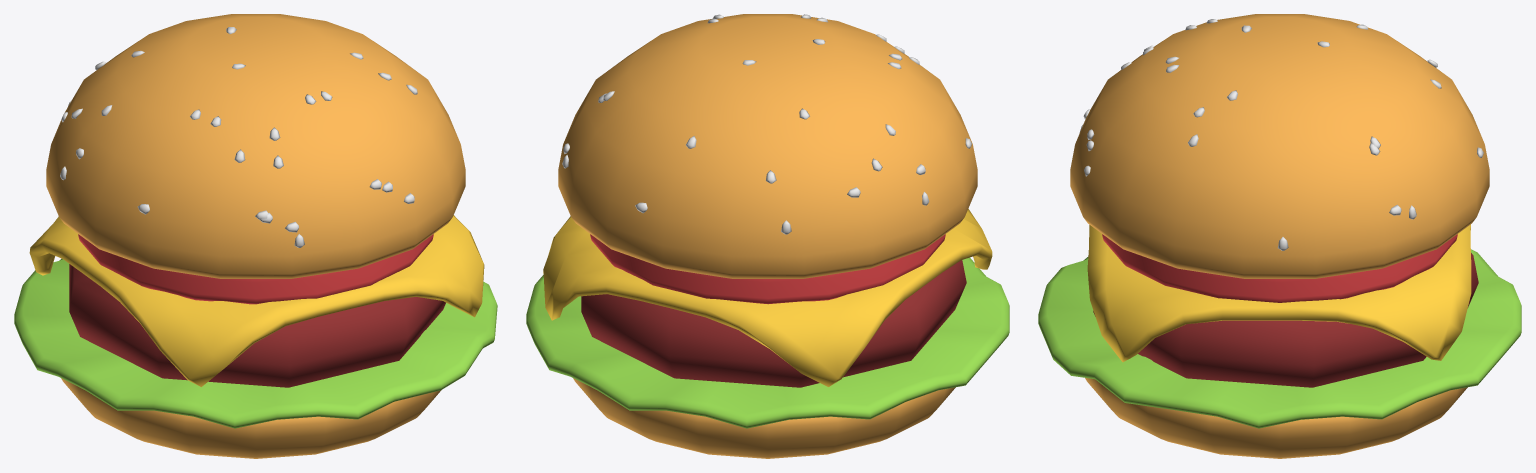
Rendered from burger 1.fbx.
The picture shows the model from 3 angles, left to right: view 1: azimuth 30°, elevation 25°; view 2: azimuth 150°, elevation 25°; view 3: azimuth 270°, elevation 25°; orthographic projection.
Parts seen in each view (by area): view 1: burger; view 2: burger; view 3: burger.
Part boxes in pixels (left/top/right/bottom): burger: left=14, top=14, right=497, bottom=458; burger: left=526, top=14, right=1009, bottom=458; burger: left=1038, top=14, right=1521, bottom=458.
Size of the model in its own units: 1.12 by 0.8801 by 1.12.
